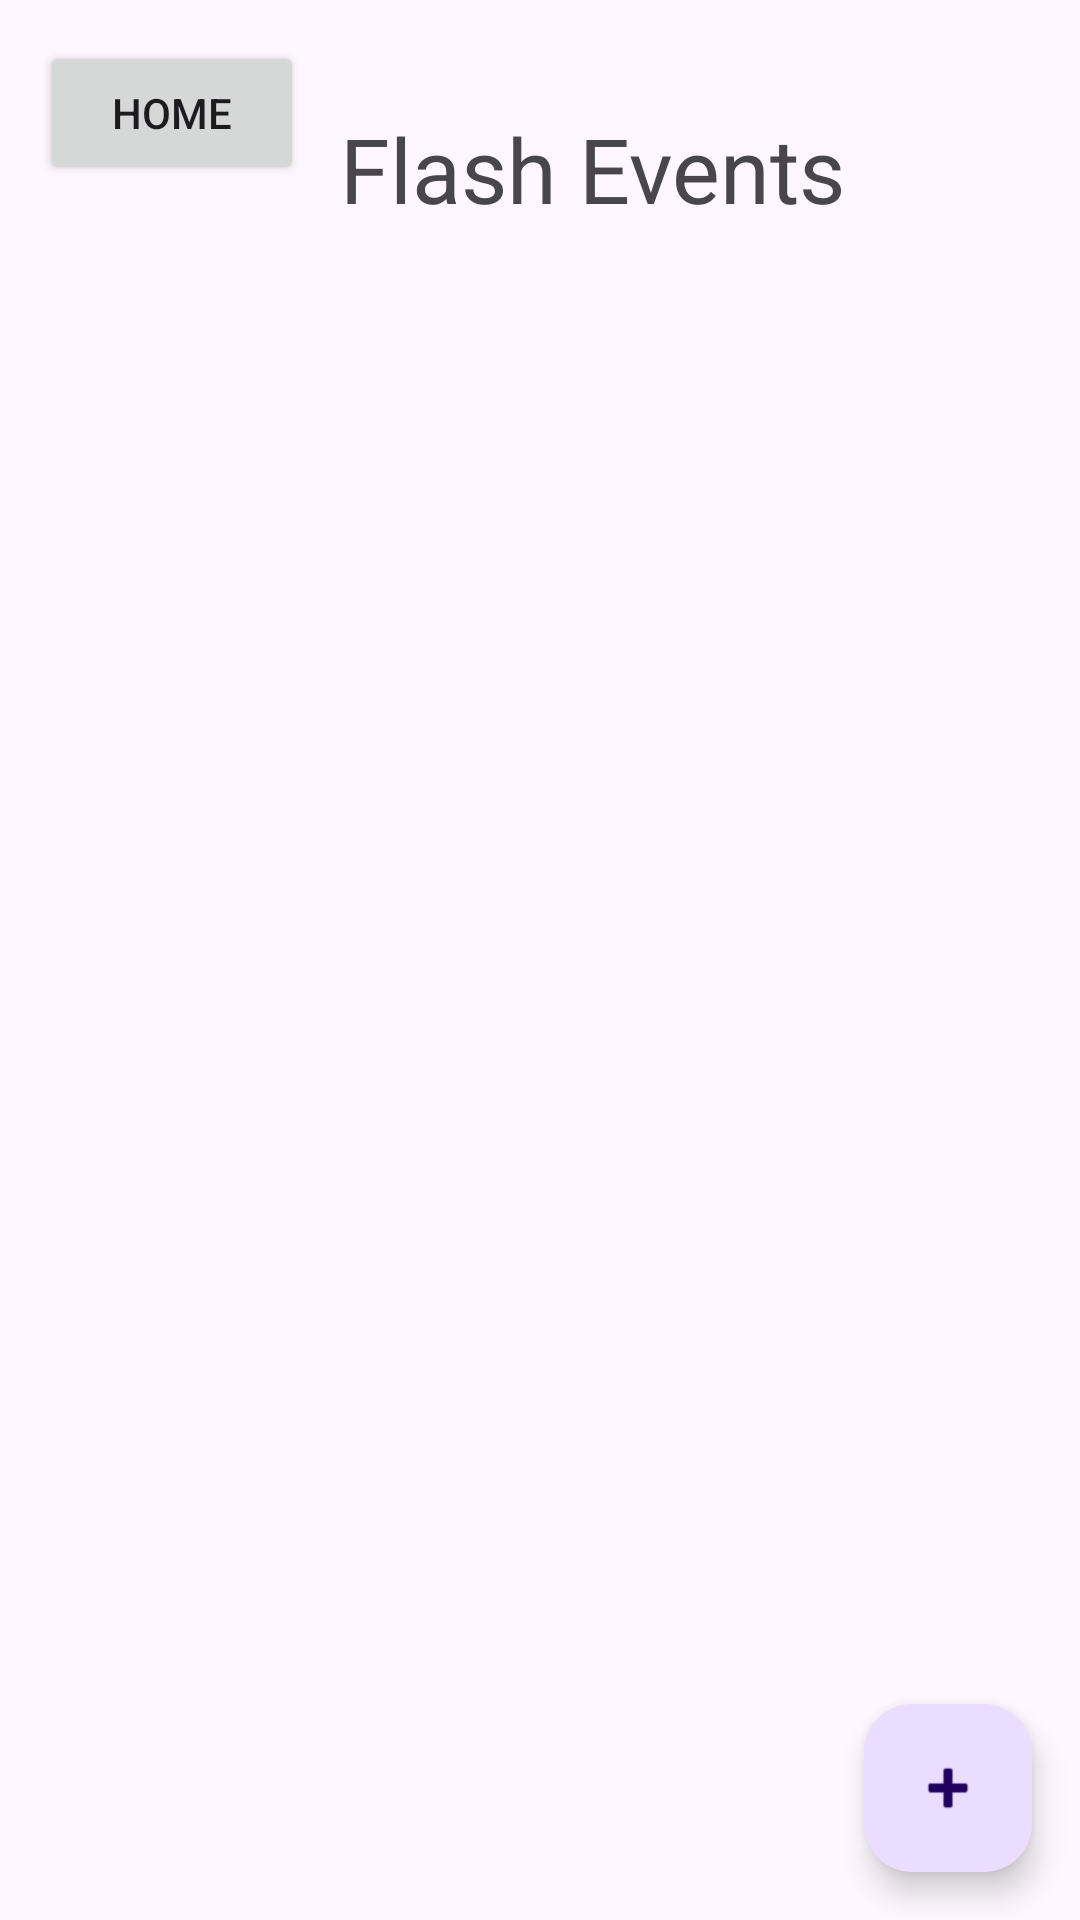

Icon bounding boxes for this 1080 × 1920 phone screenshot, format {"left": x1, "top": y1, "right": x2, "bottom": y2}:
Add Event: {"left": 864, "top": 1704, "right": 1032, "bottom": 1872}
